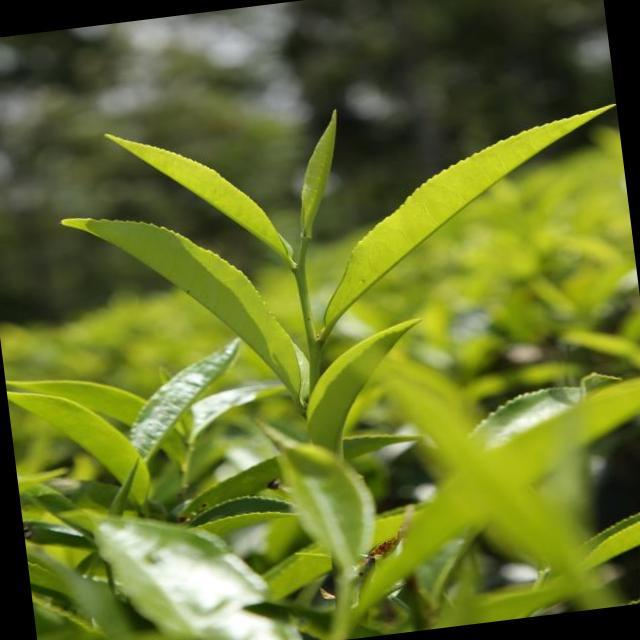Stem: (292, 264, 307, 283)
